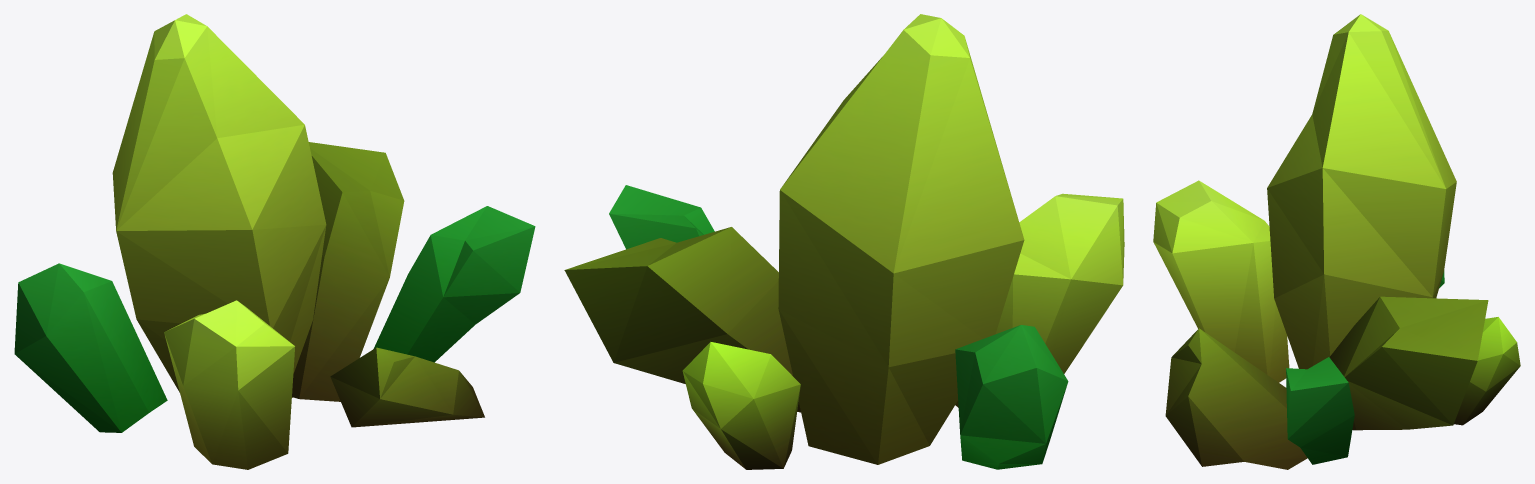
Rendered from ZLP_Crystalk_C_12.FBX.
3 renders of one model, left to right at view 1: azimuth 30°, elevation 25°; view 2: azimuth 150°, elevation 25°; view 3: azimuth 270°, elevation 25°, orthographic. The views are drawn at different scales.
Visible parts, largest first — view 1: ZLP_Crystalk_C_12; view 2: ZLP_Crystalk_C_12; view 3: ZLP_Crystalk_C_12.
Part boxes in pixels (x1,y1,x2,y2): ZLP_Crystalk_C_12: (14, 14, 535, 469); ZLP_Crystalk_C_12: (564, 14, 1124, 469); ZLP_Crystalk_C_12: (1153, 14, 1520, 469).
Size of the model in its own units: 151 by 126 by 117.
